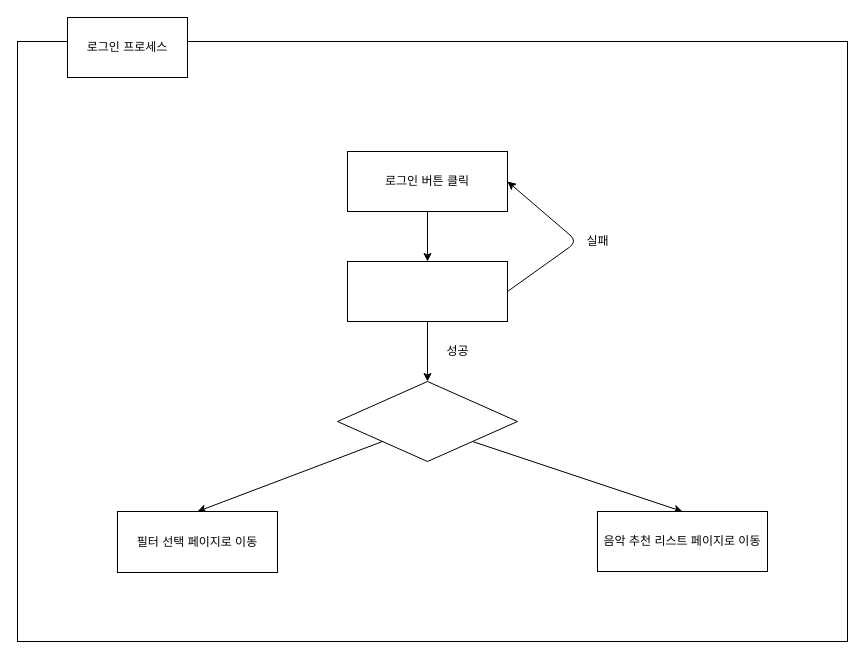
Some shapes in this 865 by 659 pixel diagram are drawn without their labels. The box of each missing label's shape, as (x1, y1, x2, y2) in pixels:
스포티파이 상에서 로그인: (346, 260, 508, 322)
첫 로그인인가?: (336, 380, 518, 462)
